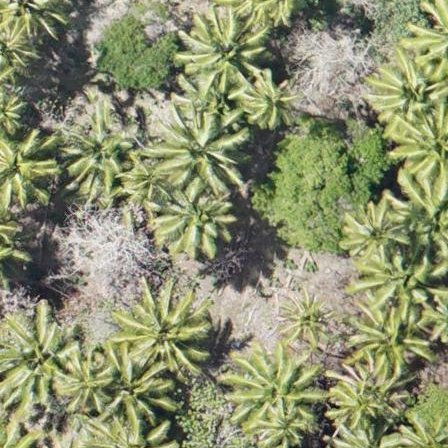palm_tree: (223, 339, 322, 428), (149, 100, 237, 194), (117, 281, 205, 375), (175, 11, 261, 94), (1, 310, 72, 399), (153, 181, 229, 262), (46, 334, 122, 414), (64, 111, 135, 191), (393, 99, 448, 200), (371, 49, 442, 125), (340, 197, 407, 269), (236, 66, 304, 132), (345, 310, 415, 369), (1, 125, 49, 204), (331, 372, 391, 426), (270, 296, 333, 347), (1, 1, 64, 37), (1, 72, 5, 116)
